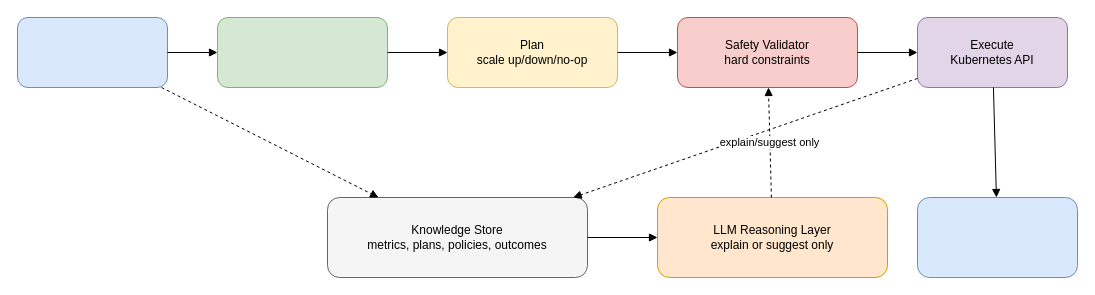
Image size: 1095x295. Some labels were removed from this diagram. Here are the shapes that lost their labels. From the top down, the centre of each, then its label:
At point 92,52: "Monitor Prometheus metrics".
At point 302,52: "Analyze thresholds, SLA, trends".
At point 997,237: "Kubernetes Workloads Sock Shop services".
